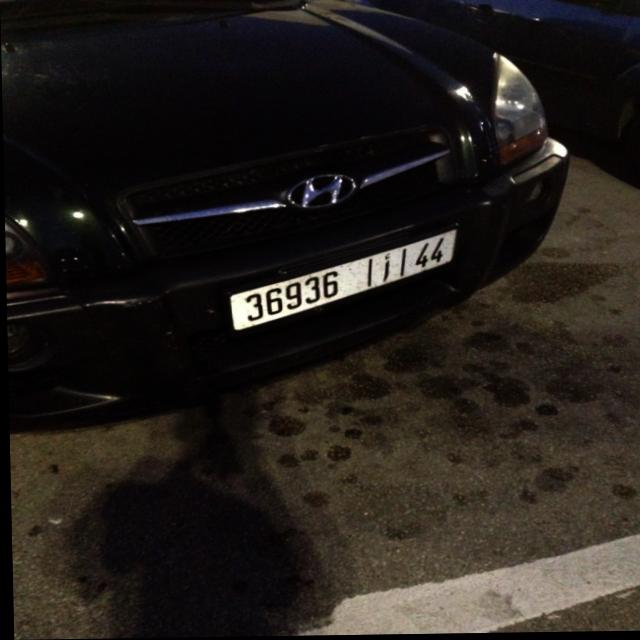License-Plate: (229, 231, 456, 331)
